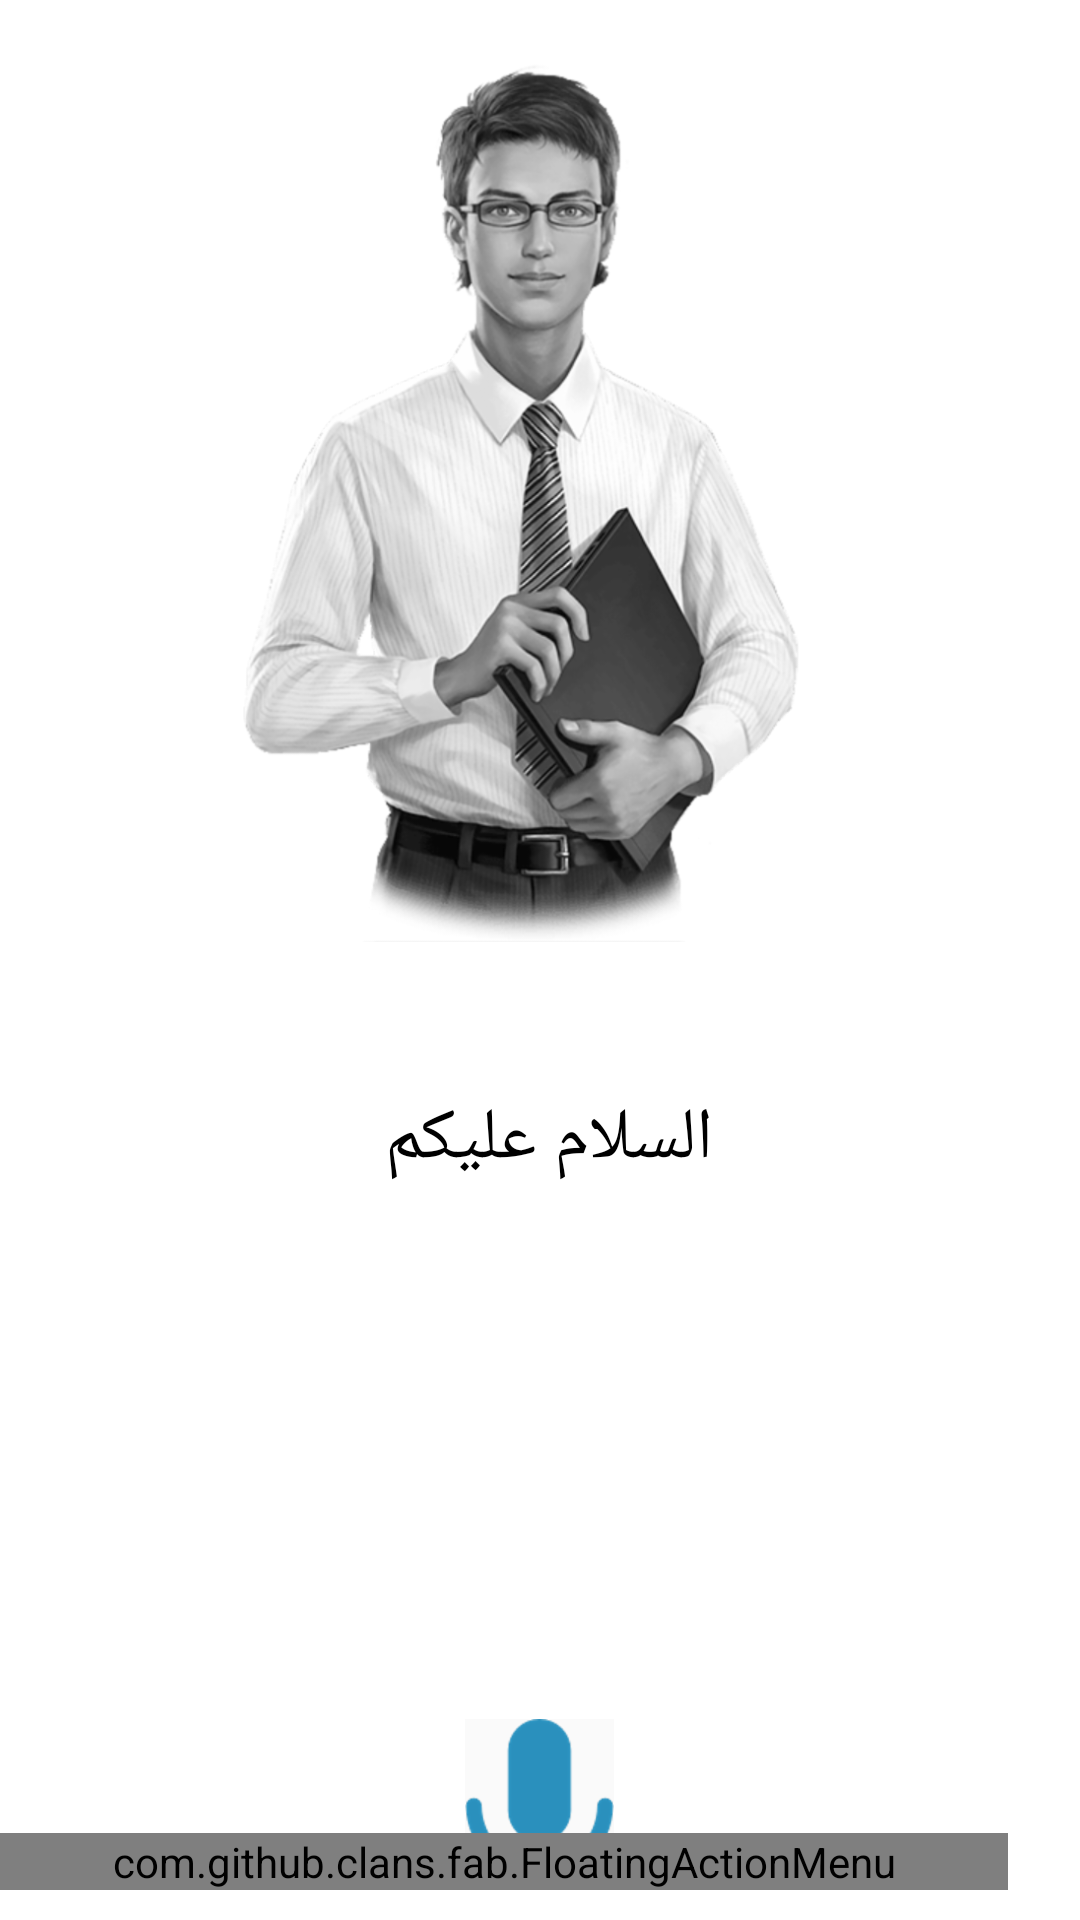

Point at icon controls on the screen. Image size 1080 × 1920, points as point (x, y).
caller id mic: point (539, 1800)
